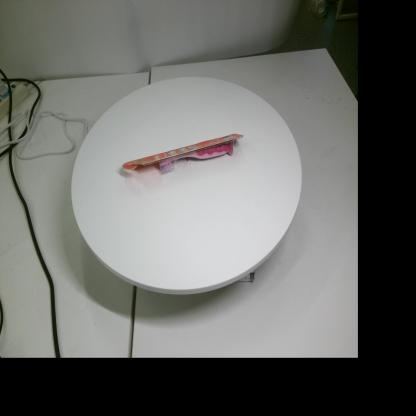Personal Hygiene: (122, 134, 244, 174)
